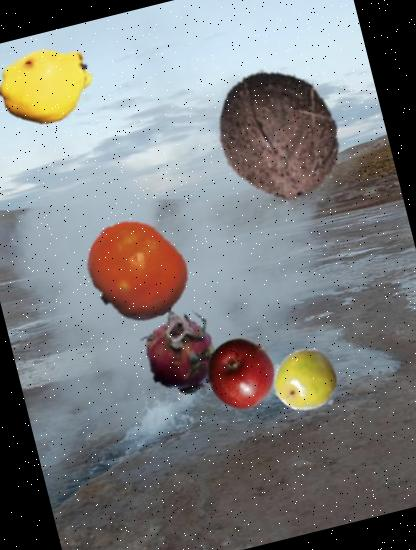Apple: (198, 330, 284, 416)
Clementine: (74, 207, 201, 334)
Cocos: (195, 51, 363, 219)
Maracuja: (268, 341, 346, 419)
Pitahaya: (121, 292, 239, 410)
Quince: (0, 29, 106, 145)
